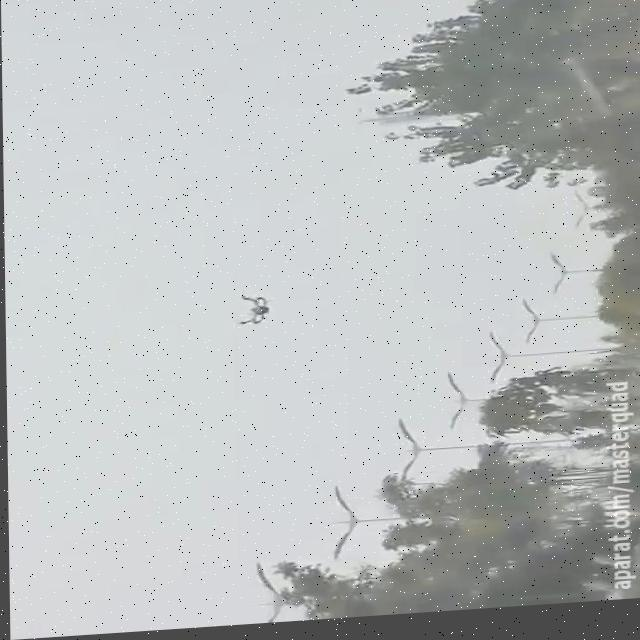drone: (227, 294, 269, 336)
